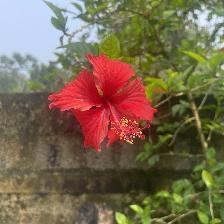hibiscus: (48, 52, 163, 156)
